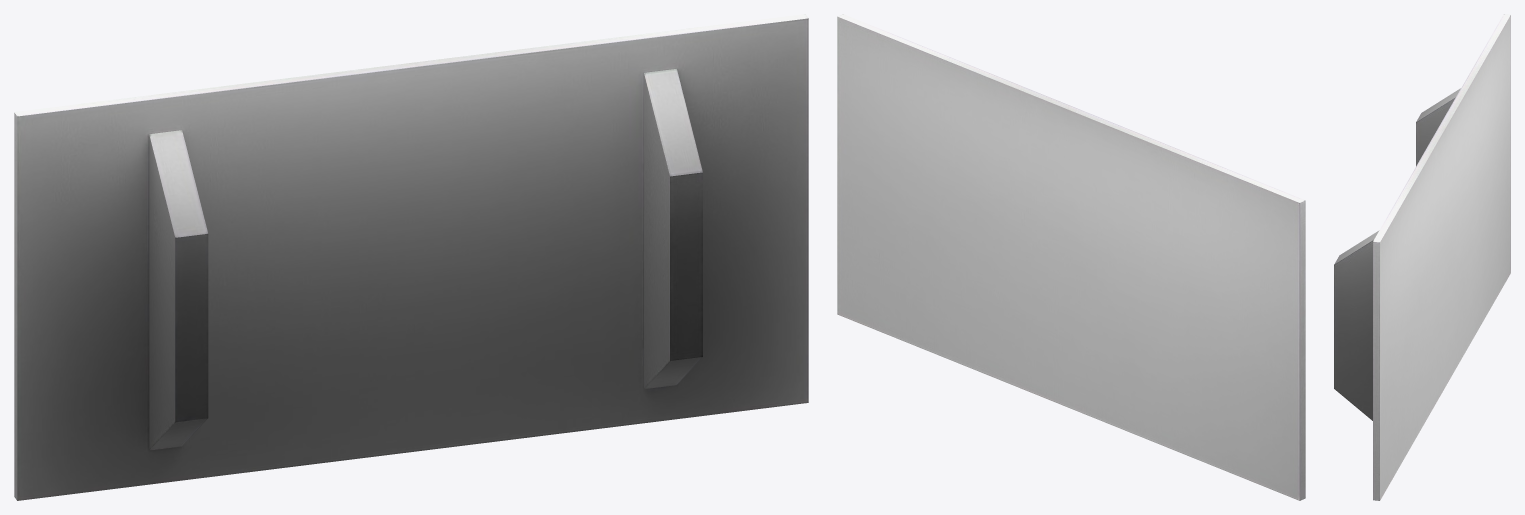
File: EmotionWall (-2.16354, -9.367, 2.6).glb
3 views of the same model, side by side, from view 1: azimuth 30°, elevation 25°; view 2: azimuth 150°, elevation 25°; view 3: azimuth 270°, elevation 25° (orthographic). The views are drawn at different scales.
Visible parts, largest first — view 1: Plane.007; view 2: Plane.007; view 3: Plane.007.
Part boxes in pixels (bbox=[...]): Plane.007: bbox=[14, 14, 808, 500]; Plane.007: bbox=[837, 14, 1305, 500]; Plane.007: bbox=[1334, 14, 1510, 500].
Size of the model in its own units: 6.82 by 3.6 by 2.23.
1 material, 1 textured.
